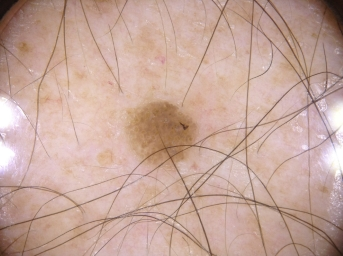seborrheic keratosis: (105, 82, 204, 167)
